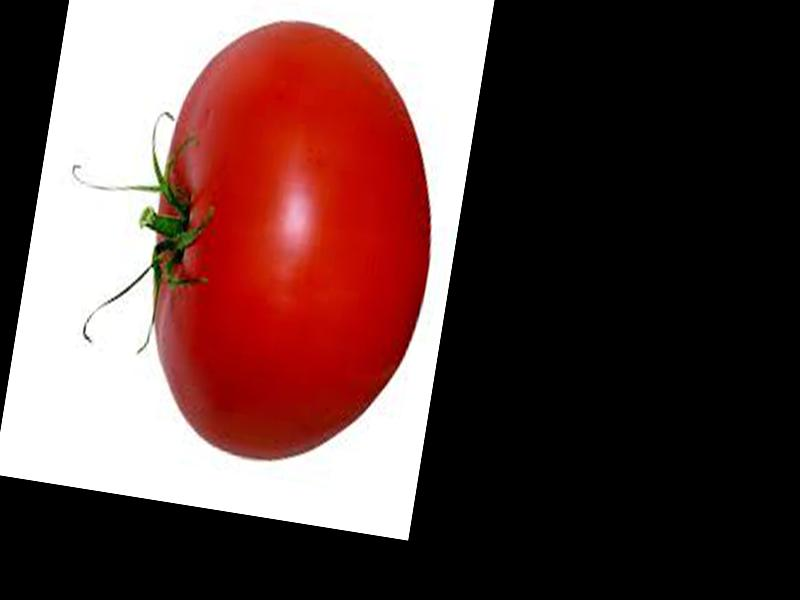Tomato: (120, 0, 462, 480)
